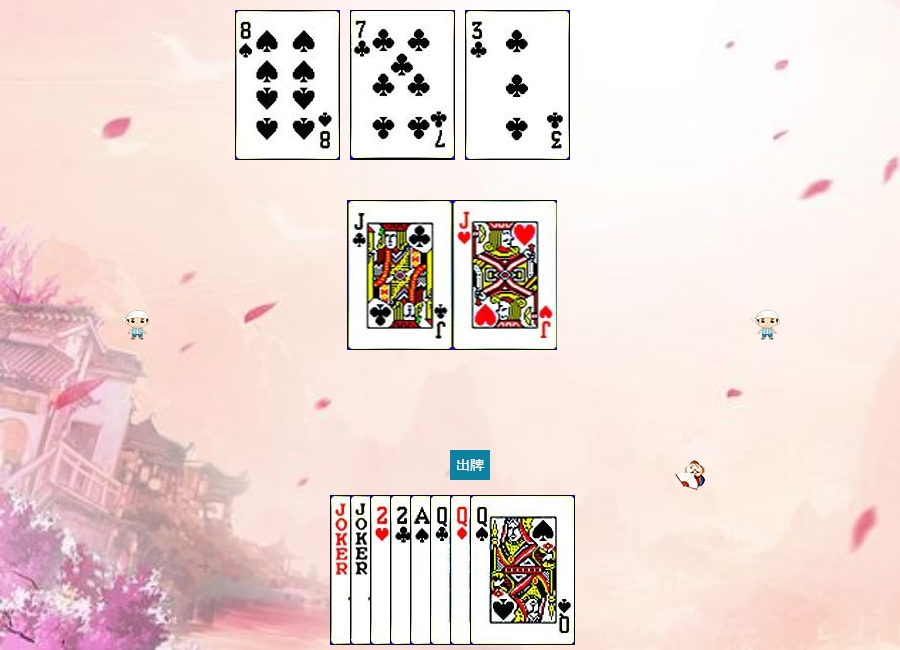11~2: (348, 200, 453, 350)
11~3: (453, 200, 558, 350)
12~1: (450, 495, 555, 645)
12~2: (430, 495, 535, 645)
12~4: (470, 495, 575, 645)
14~4: (410, 495, 515, 645)
15~2: (390, 495, 495, 645)
15~3: (370, 495, 475, 645)
17~3: (350, 495, 455, 645)
18~4: (330, 495, 435, 645)
3~2: (465, 10, 570, 160)
7~2: (350, 10, 455, 160)
8~4: (235, 10, 340, 160)
